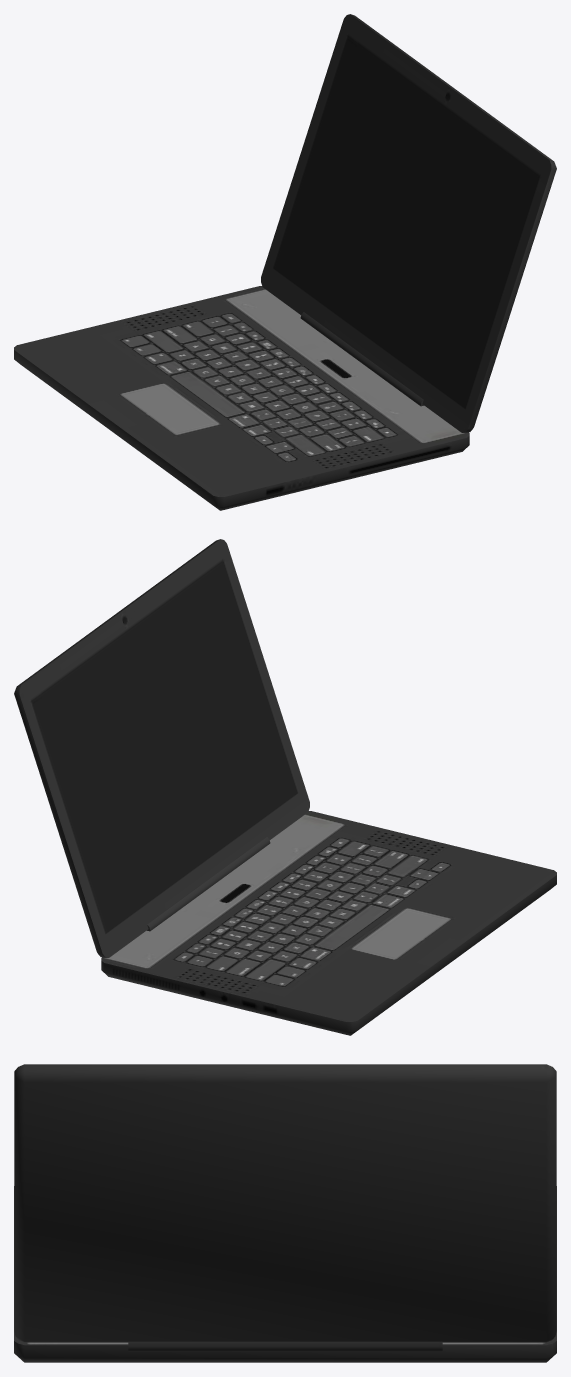
The model's file is CR_Laptop.glb.
3 views of the same model, one above another, from view 1: azimuth 30°, elevation 25°; view 2: azimuth 150°, elevation 25°; view 3: azimuth 270°, elevation 25° (orthographic). The views are drawn at different scales.
Parts seen in each view (by area): view 1: Laptop; view 2: Laptop; view 3: Laptop.
Boxes of the visible parts, bbox=[...] form: Laptop: bbox=[14, 14, 556, 510]; Laptop: bbox=[14, 539, 556, 1035]; Laptop: bbox=[14, 1064, 556, 1362].
Bounding box in the file's own units: 0.3875 × 0.2916 × 0.4052.
1 material, 1 textured.
